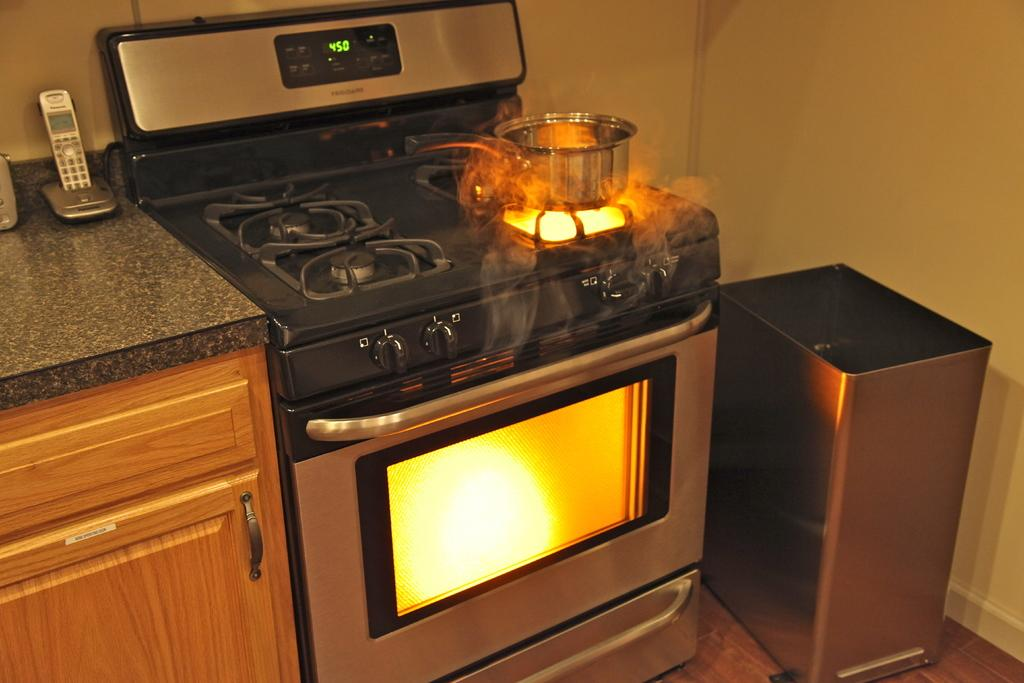cabinet_door: (27, 521, 269, 678)
handle: (338, 353, 696, 434), (234, 490, 274, 573)
